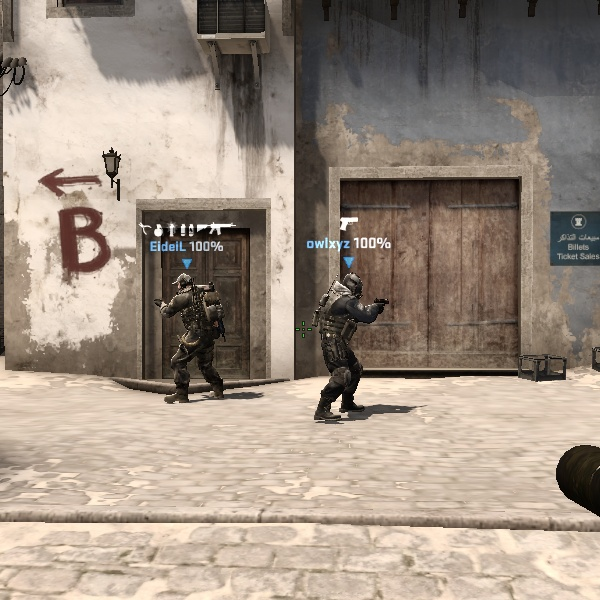ct_body: (306, 271, 395, 427), (157, 268, 236, 403)
ct_head: (334, 268, 368, 301), (171, 272, 200, 298)
